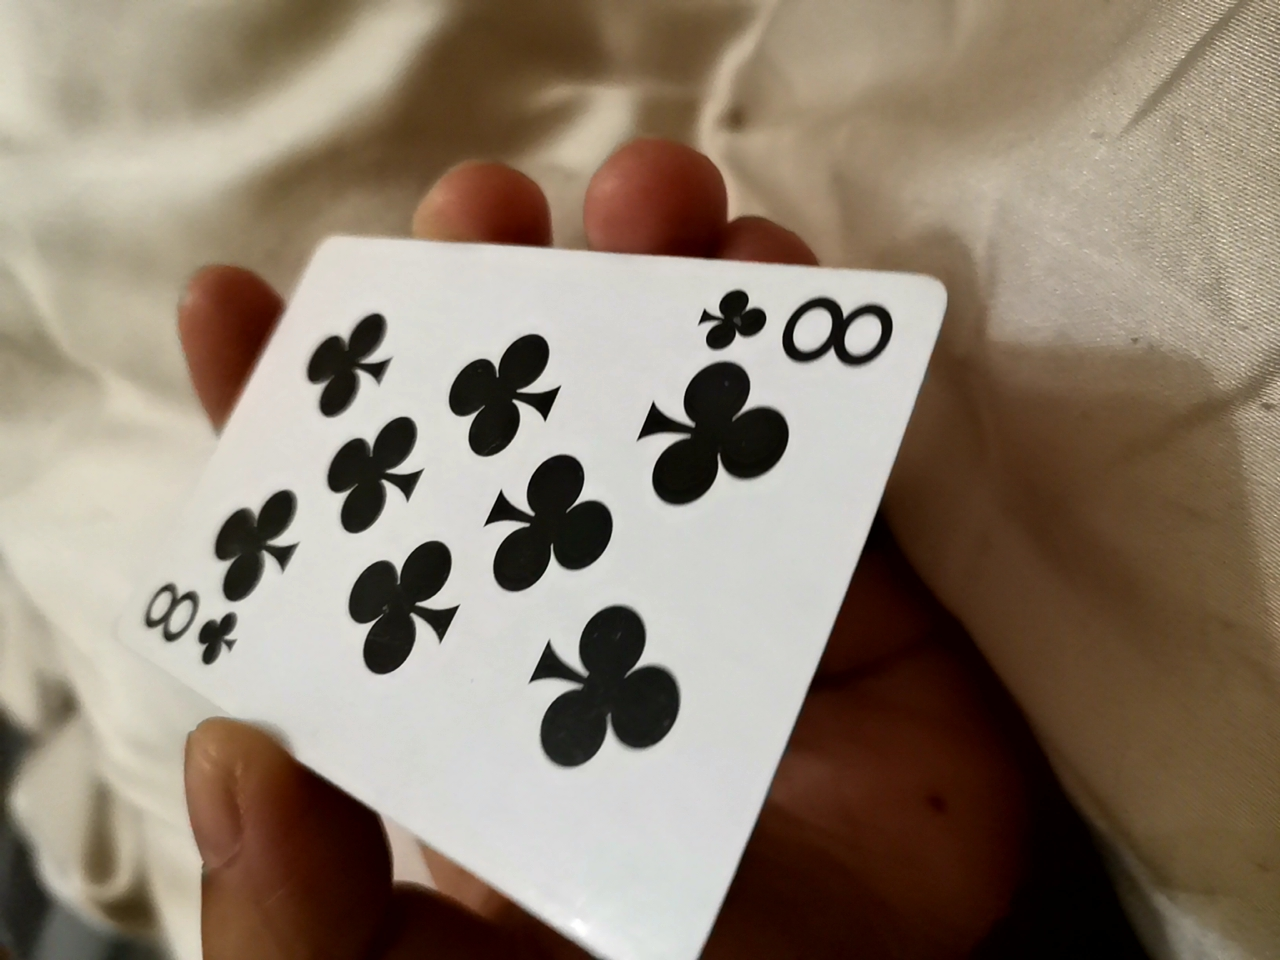mh 8: (107, 227, 986, 947)
